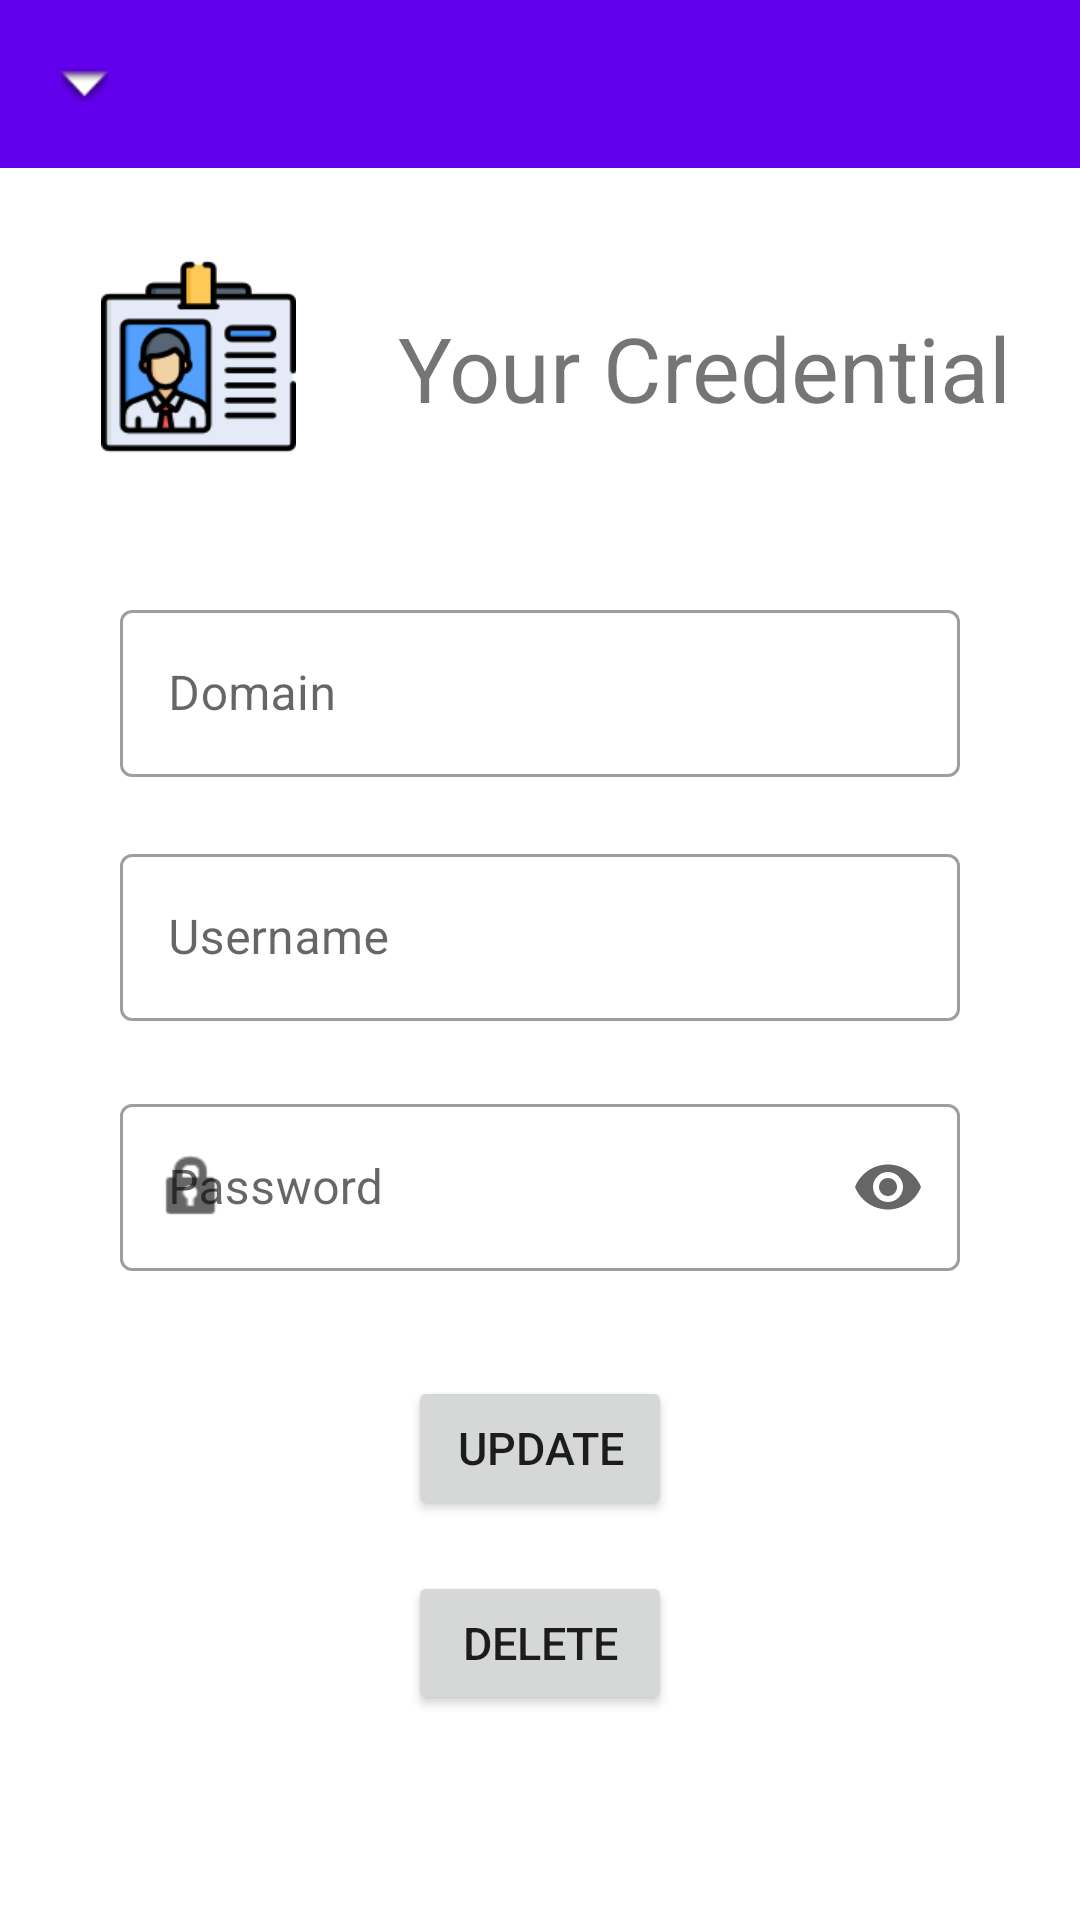

Named icons in this screenshot (1080*1920) and their bounding boxes, (x1, y1, x2, y2):
id card: (101, 261, 296, 452)
